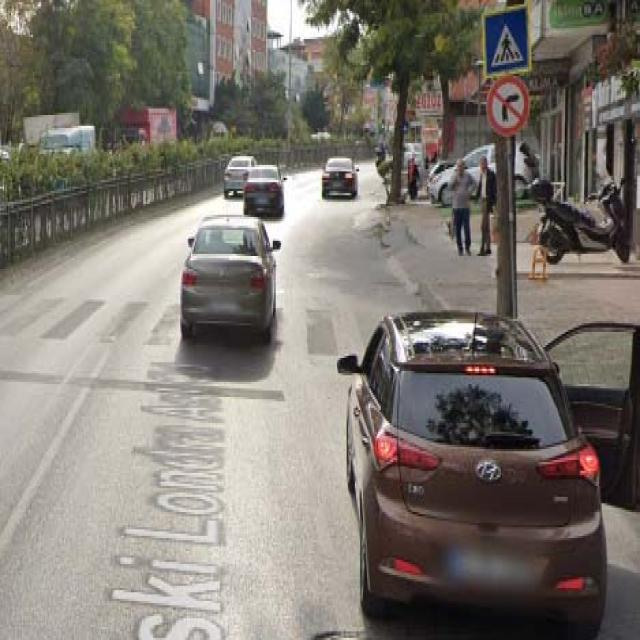sagadonulmez: (487, 76, 528, 139)
